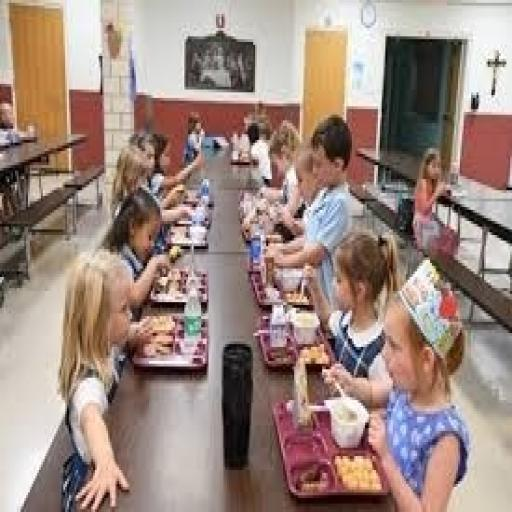eating: (54, 104, 473, 506)
